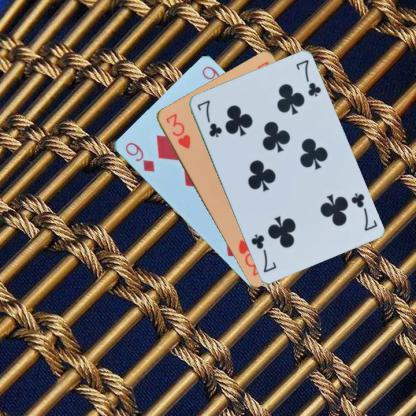3h: (162, 110, 192, 150)
7c: (348, 190, 378, 232), (194, 97, 223, 139)
9d: (122, 139, 156, 174)
